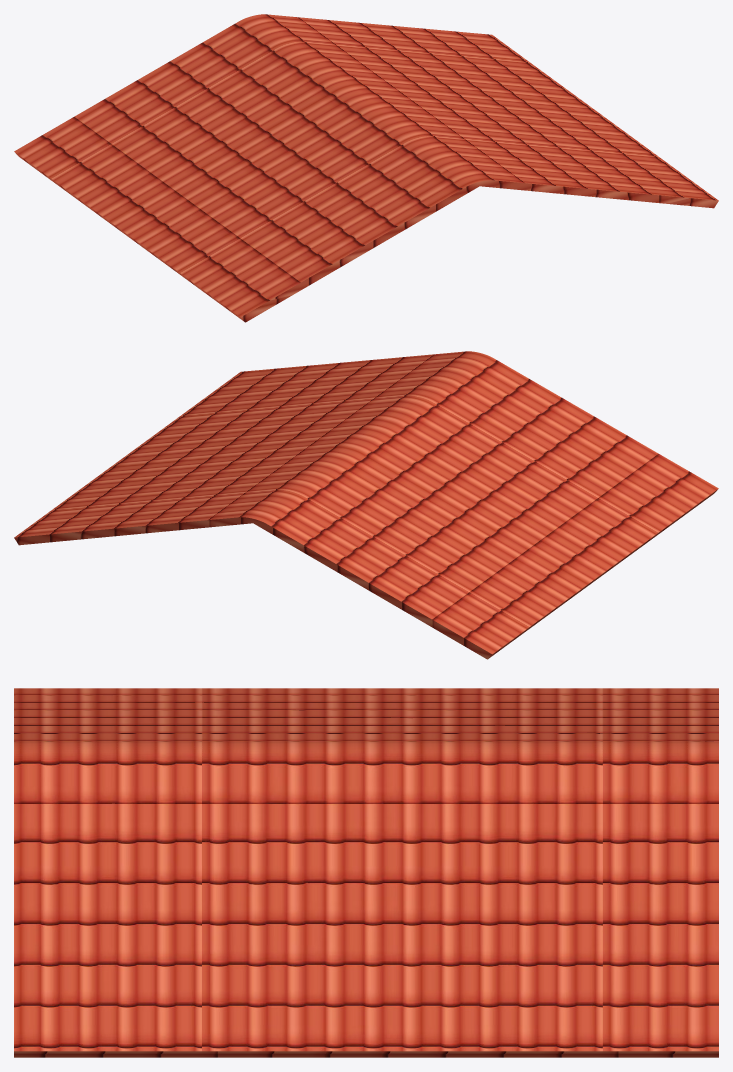
Rendered from techo.obj.
The picture shows the model from 3 angles, top to bottom: view 1: azimuth 30°, elevation 25°; view 2: azimuth 150°, elevation 25°; view 3: azimuth 270°, elevation 25°; orthographic projection. The views are drawn at different scales.
Parts seen in each view (by area): view 1: roof; view 2: roof; view 3: roof.
Boxes of the visible parts, x1,y1,x2,y2 form: roof: (14, 14, 718, 322); roof: (14, 351, 718, 659); roof: (14, 688, 718, 1057).
Bounding box in the file's own units: 4.18 × 0.7001 × 3.43.
Materials: 1 (1 with a texture image).
